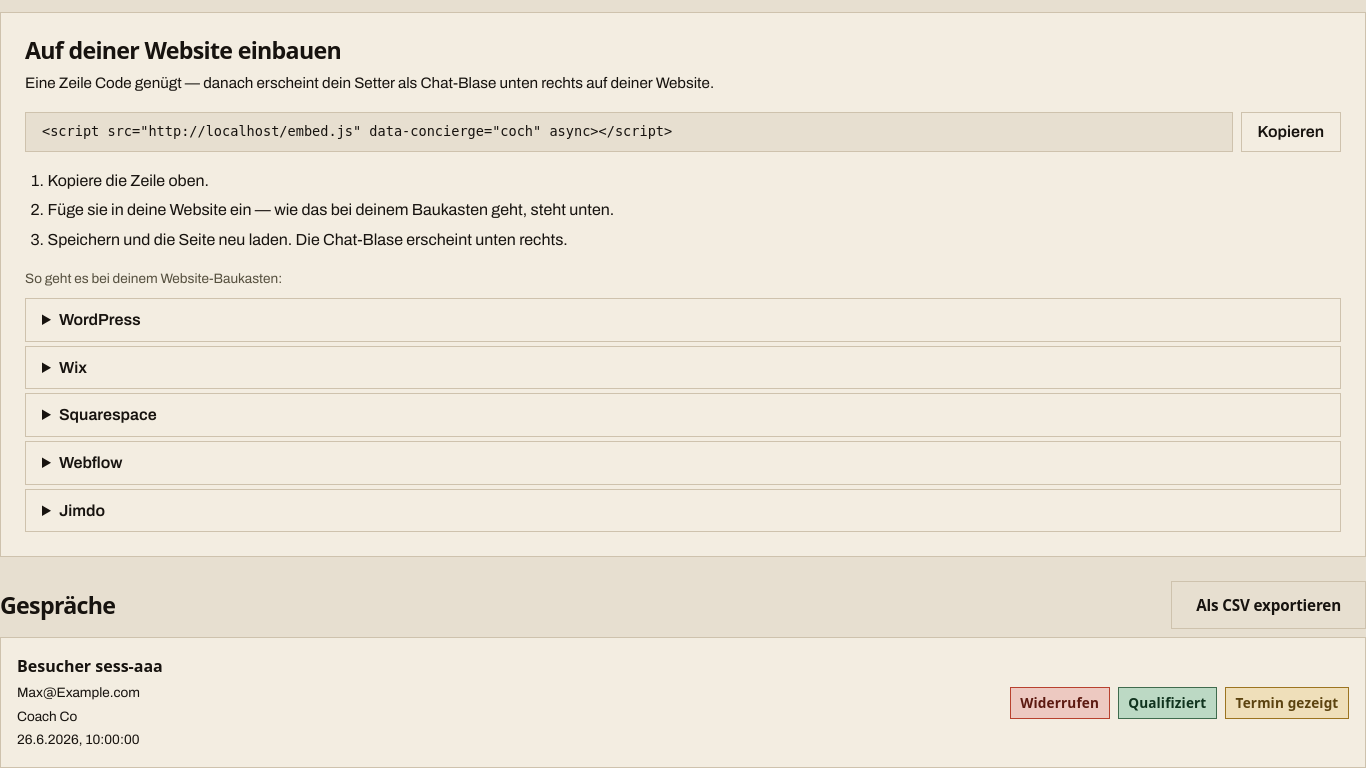
Test: ConciergeChatsPage › shows a withdrawal that came after a confirmation as withdrawn
(page scrolled)
Expected: the text "Widerrufen" is shown, x1=1010 y1=687 x2=1110 y2=719
Click the button "sess-aaa".
click(683, 703)  # box x1=0 y1=637 x2=1365 y2=767
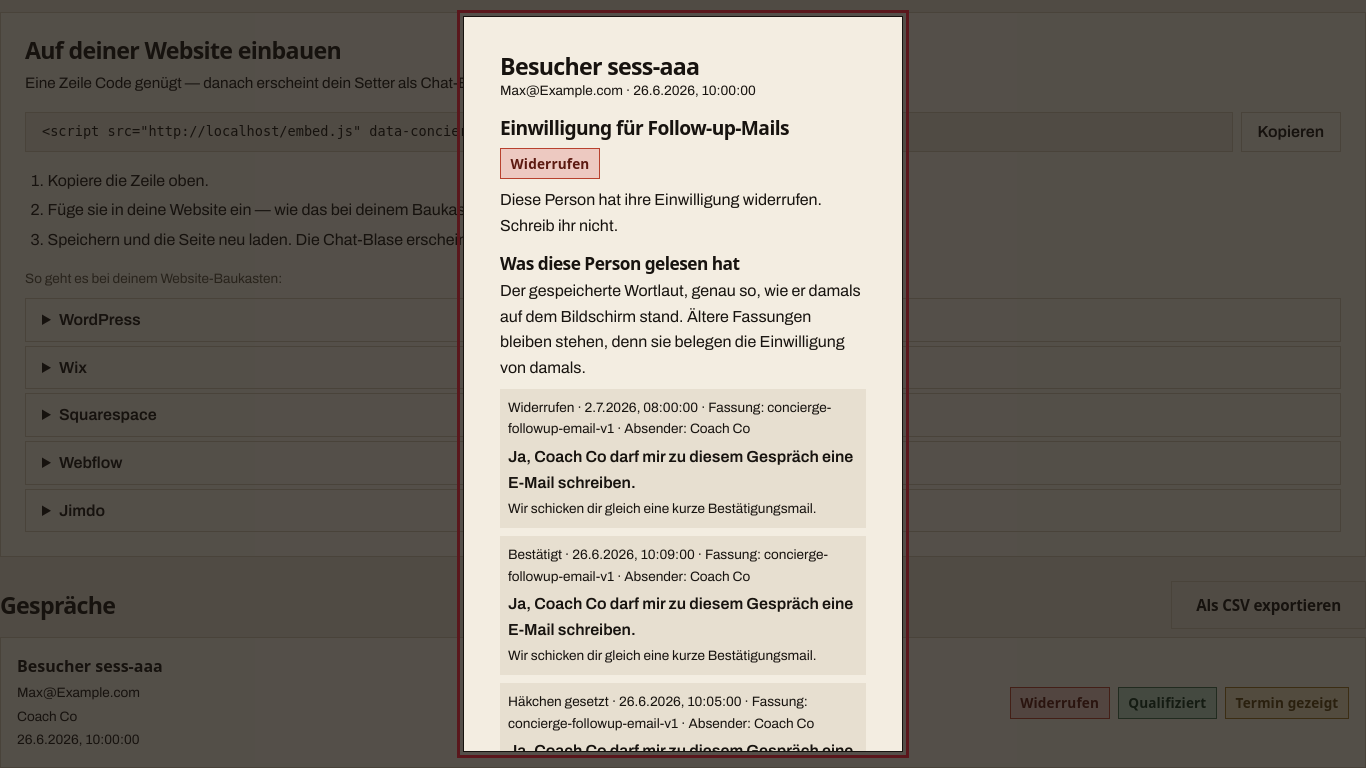
Expected: the text "hat ihre Einwilligung widerrufen" is shown, x1=500 y1=191 x2=822 y2=234
Expected: the text "concierge-followup-email-v1" is shown 3 times, x1=508 y1=397 x2=858 y2=440; x1=508 y1=544 x2=858 y2=587; x1=508 y1=691 x2=858 y2=734
